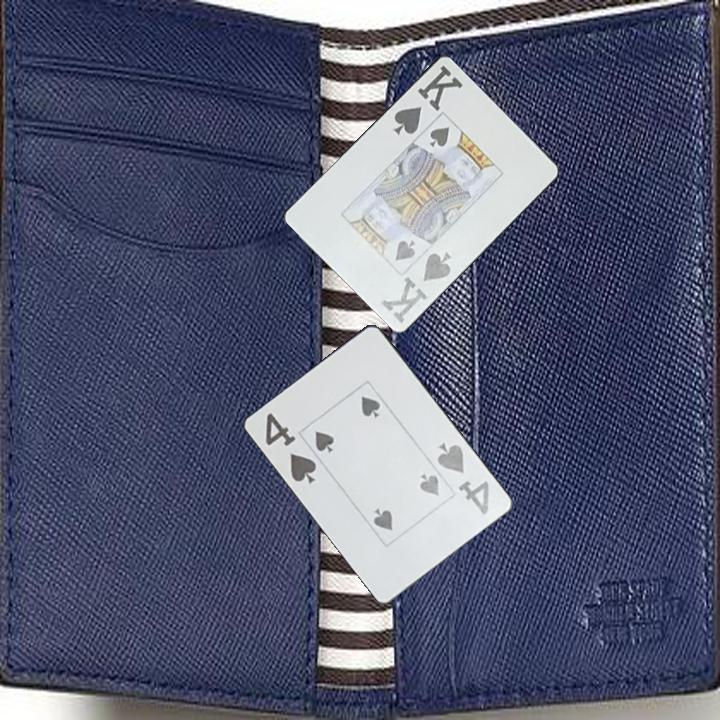4s: (433, 440, 493, 518), (261, 409, 319, 489)
Ks: (377, 248, 454, 326), (389, 61, 466, 137)
